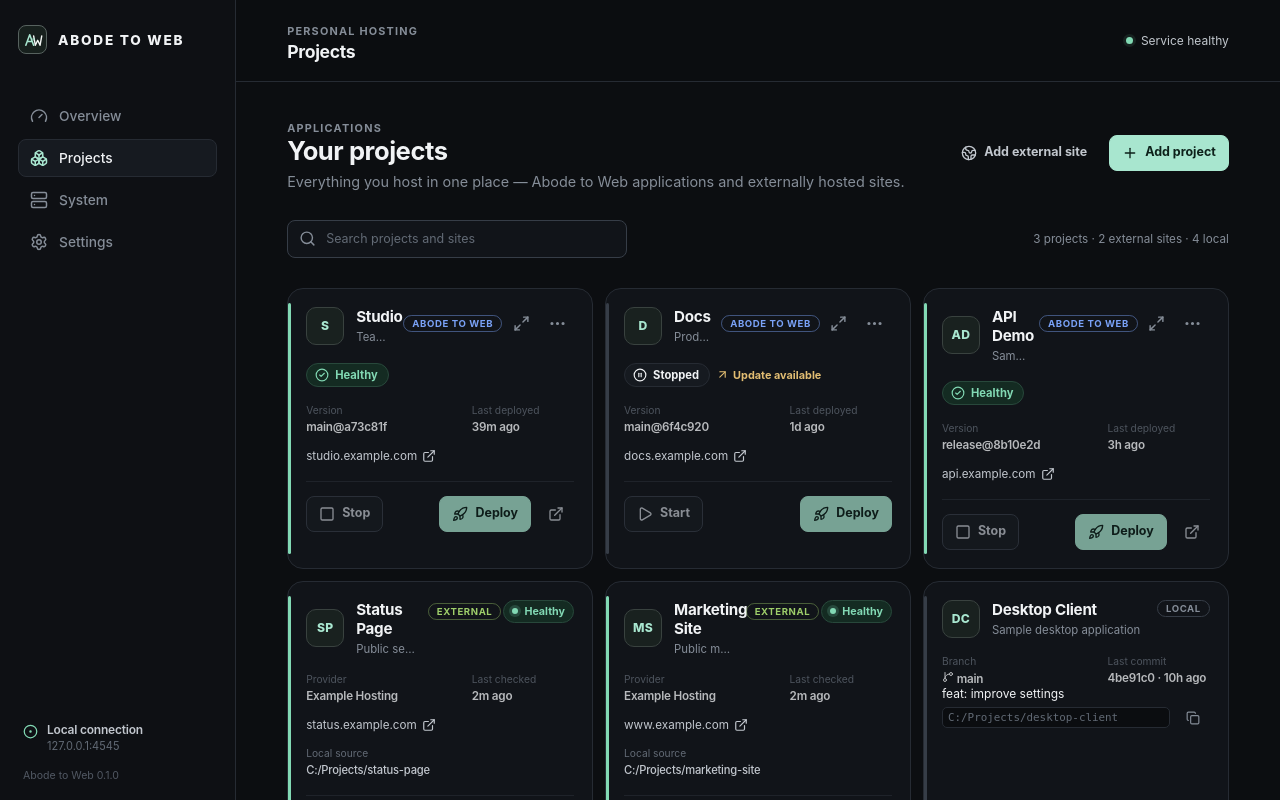
Test: project actions and operation progress › shows asynchronous deployment stage and percentage without blocking the page
Click the button "Deploy" below "studio.example.com" at [485, 514], box [440,496,531,532]
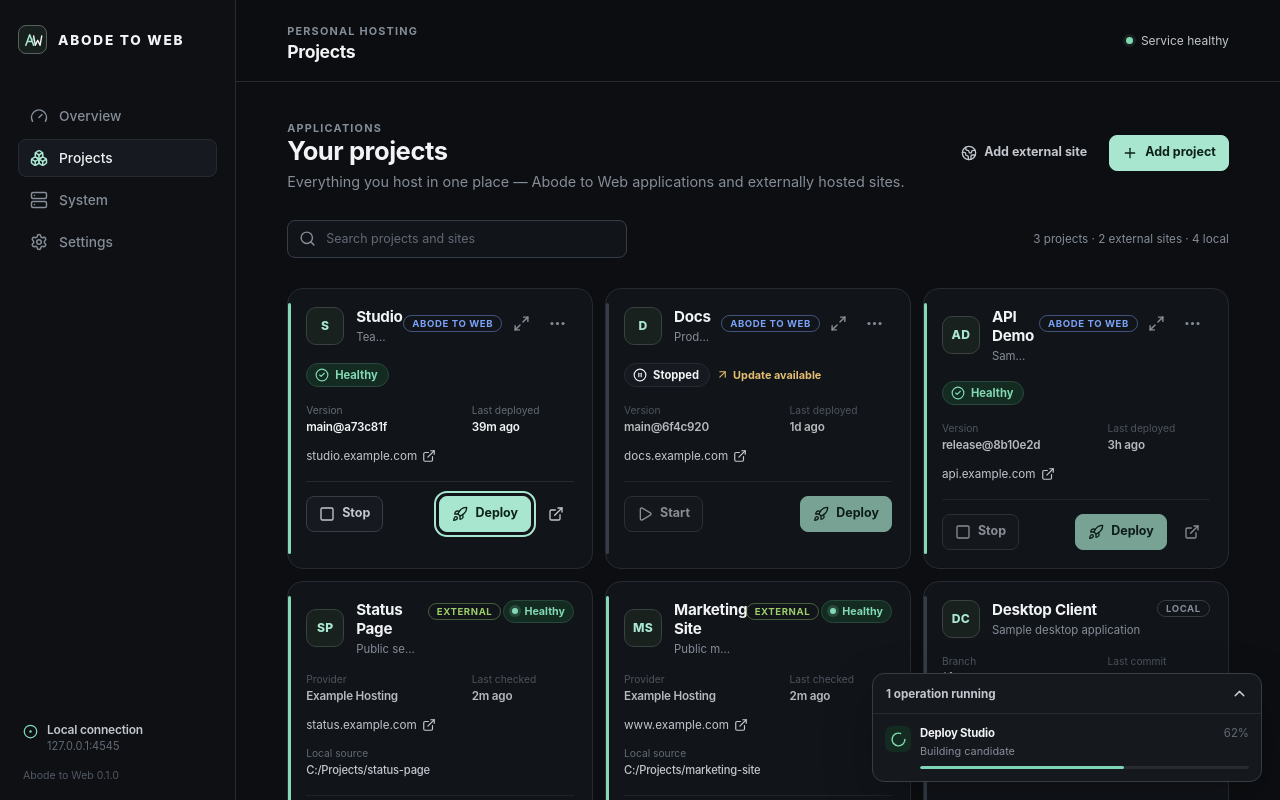
Check: the heading "Your projects" is shown, box [287,135,448,166]
Check: the text "Building candidate" is shown, box [920,744,1015,758]
